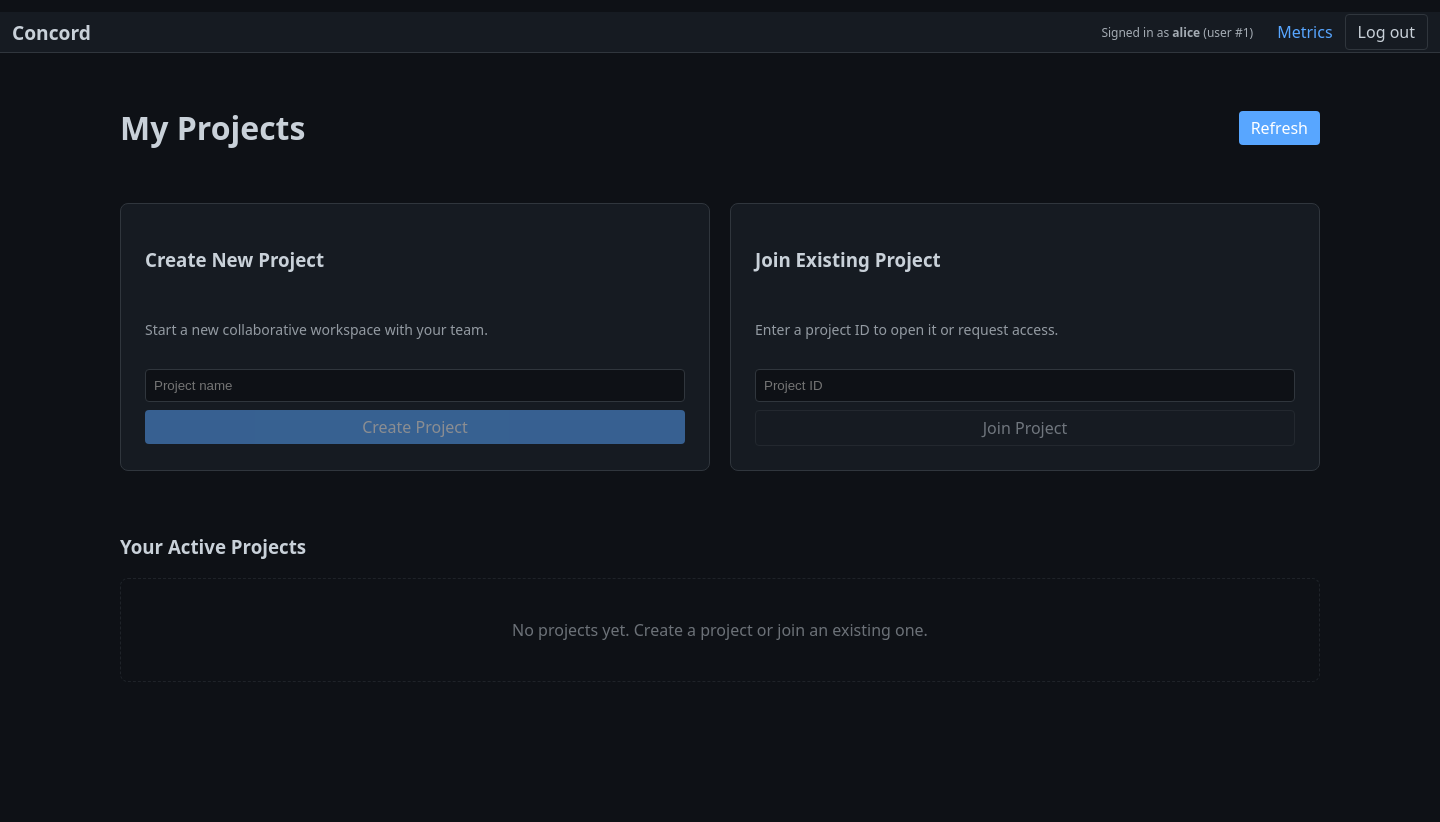
DashboardPage › joinById shows the error and does not navigate on failure
Type "999" into the field with placeholder "Project ID" at point(1025, 386), box [755, 369, 1295, 402]
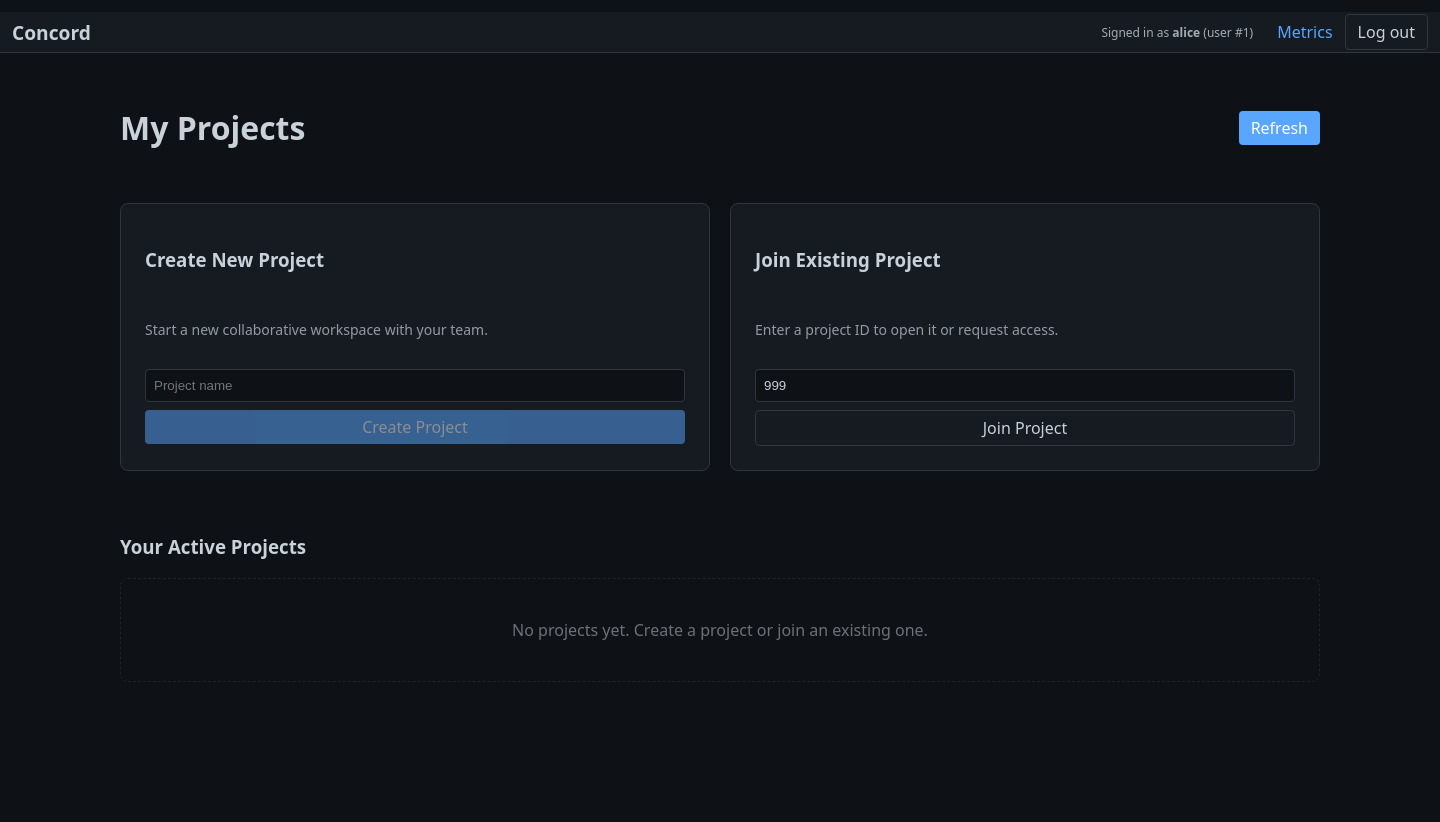
Click the button "Join Project" at point(1025, 428), box [755, 410, 1295, 446]
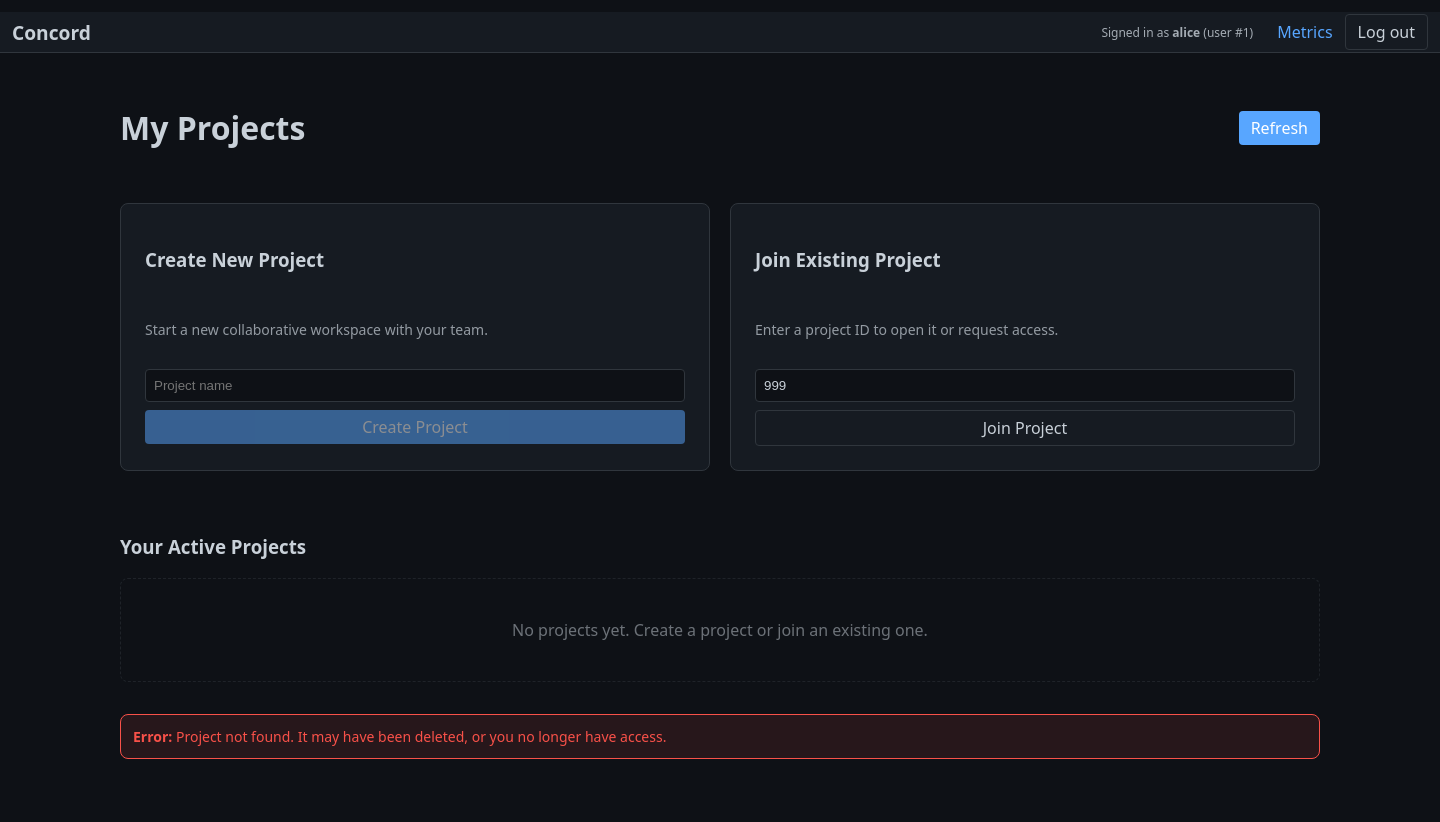
Result: the text "Project not found. It may have been deleted" is shown at [176, 727, 666, 746]
